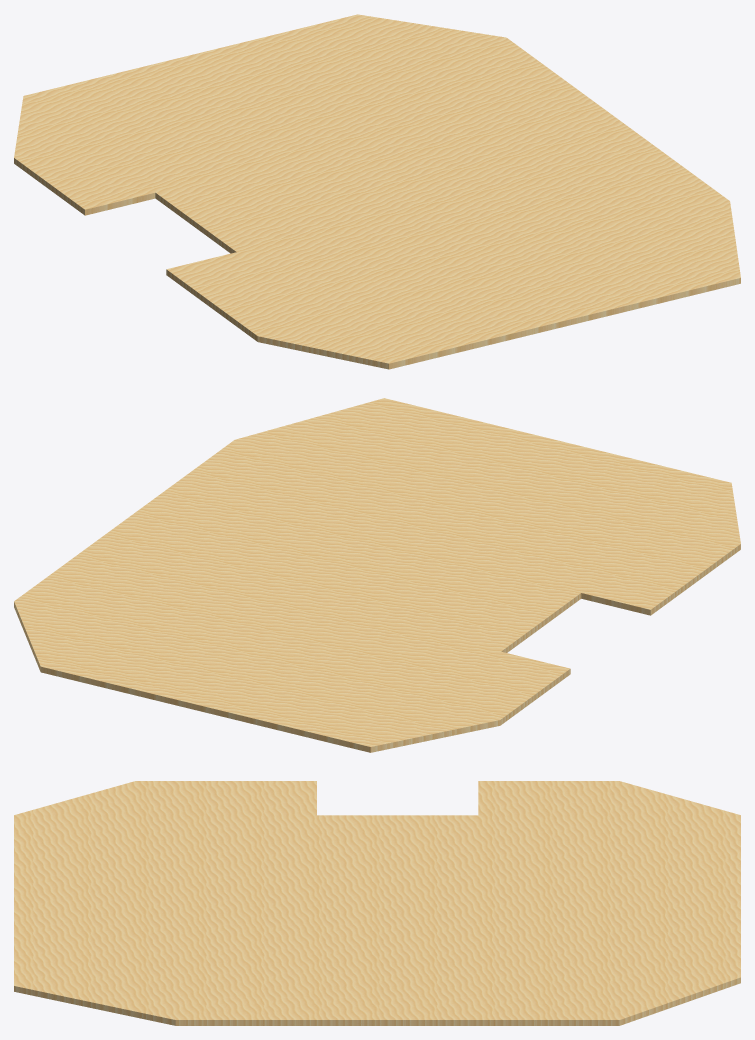
Rendered from seabed-11-CUqGP6Bg.glb.
3 renders of one model, top to bottom at view 1: azimuth 30°, elevation 25°; view 2: azimuth 150°, elevation 25°; view 3: azimuth 270°, elevation 25°, orthographic.
Visible parts, largest first — view 1: SW_SandShelf; view 2: SW_SandShelf; view 3: SW_SandShelf.
Part boxes in pixels (box(x1,y1,x2,y2)): SW_SandShelf: box(14, 14, 740, 369); SW_SandShelf: box(14, 398, 740, 752); SW_SandShelf: box(14, 781, 740, 1025).
Size of what is drawn, in the model's own units: 28 by 0.32 by 36.
1 material, 1 textured.
